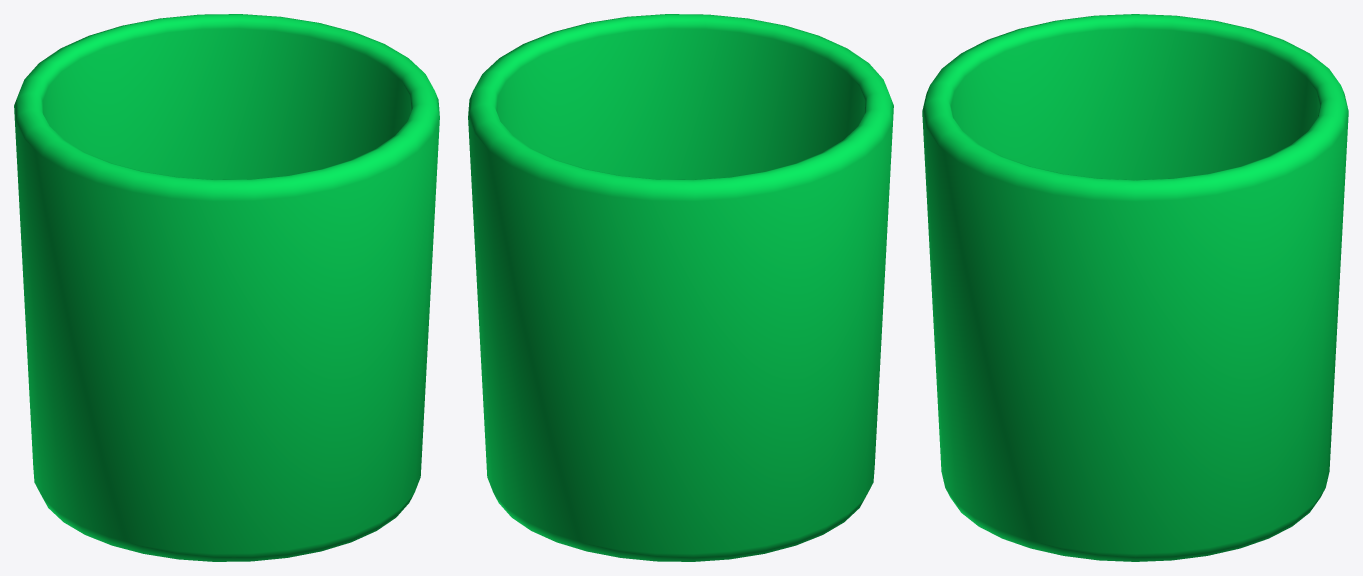
File: GlassGreen.fbx
3 renders of one model, left to right at view 1: azimuth 30°, elevation 25°; view 2: azimuth 150°, elevation 25°; view 3: azimuth 270°, elevation 25°, orthographic.
Visible parts, largest first — view 1: Cylinder; view 2: Cylinder; view 3: Cylinder.
Boxes of the visible parts, x1,y1,x2,y2 form: Cylinder: [14, 14, 439, 561]; Cylinder: [468, 14, 893, 561]; Cylinder: [922, 14, 1348, 561].
Bounding box in the file's own units: 199 × 200 × 199.
